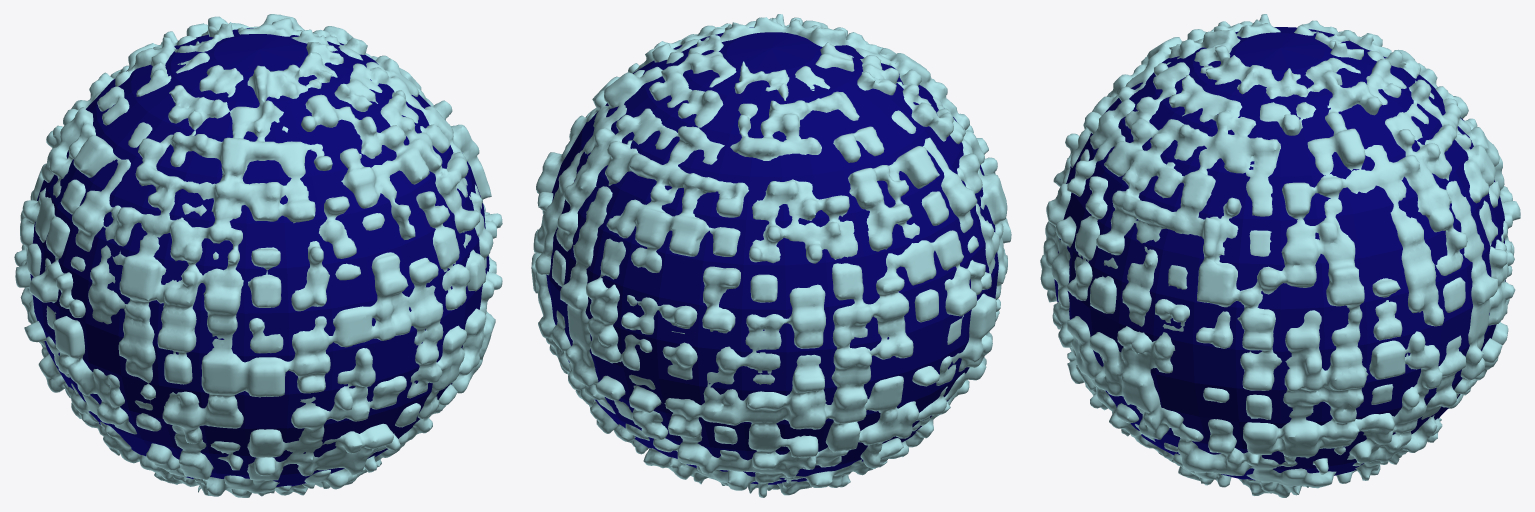
The model's file is HaikoTrust.glb.
3 renders of one model, left to right at view 1: azimuth 30°, elevation 25°; view 2: azimuth 150°, elevation 25°; view 3: azimuth 270°, elevation 25°, orthographic.
Parts seen in each view (by area): view 1: discombobulated_mesh, Sphere.001; view 2: discombobulated_mesh, Sphere.001; view 3: discombobulated_mesh, Sphere.001.
Boxes of the visible parts, x1,y1,x2,y2 form: discombobulated_mesh: (14, 14, 502, 497); Sphere.001: (30, 28, 489, 486); discombobulated_mesh: (531, 14, 1011, 497); Sphere.001: (546, 27, 998, 484); discombobulated_mesh: (1040, 14, 1520, 497); Sphere.001: (1054, 27, 1505, 480).
Size of the model in its own units: 2.19 by 2.13 by 2.17.
